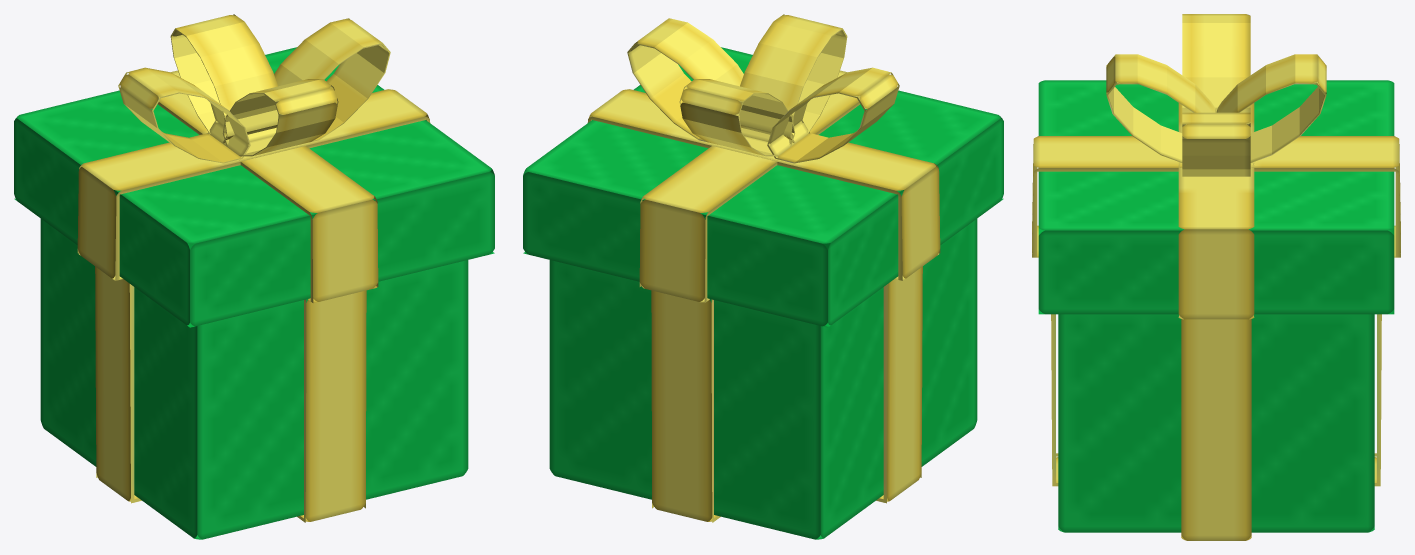
The model's file is Gift2.fbx.
3 renders of one model, left to right at view 1: azimuth 30°, elevation 25°; view 2: azimuth 150°, elevation 25°; view 3: azimuth 270°, elevation 25°, orthographic.
Visible parts, largest first — view 1: cuboid, rib2, rib3, ribbon_1, ribbon_3, ribbon, ribbon_2; view 2: cuboid, rib2, rib3, ribbon, ribbon_3, ribbon_1, ribbon_2; view 3: cuboid, rib3, rib2, ribbon_2, ribbon, ribbon_1, ribbon_3.
Boxes of the visible parts, x1,y1,x2,y2 form: cuboid: (14,47,494,539); rib2: (158,70,378,522); rib3: (77,89,430,503); ribbon_1: (170,14,278,143); ribbon_3: (274,18,390,143); ribbon: (222,79,338,156); ribbon_2: (118,67,250,163); cuboid: (523,47,1003,539); rib2: (639,70,859,522); rib3: (587,89,940,503); ribbon: (739,14,847,143); ribbon_3: (627,18,743,143); ribbon_1: (679,79,795,156); ribbon_2: (767,67,899,163); cuboid: (1038,80,1394,532); rib3: (1178,103,1254,540); rib2: (1032,136,1400,486); ribbon_2: (1182,14,1250,112); ribbon: (1106,54,1216,162); ribbon_1: (1216,54,1326,162); ribbon_3: (1182,112,1250,176).
Size of the model in its own units: 87.5 by 105 by 87.5.
1 material, 1 textured.
